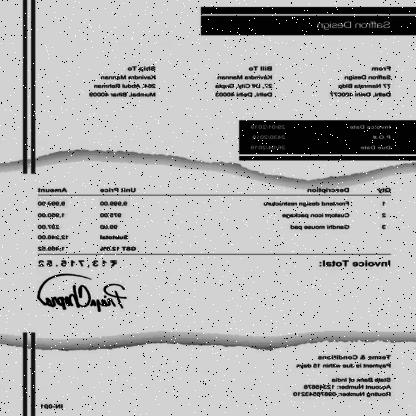Paragraph: (290, 352, 396, 398), (249, 124, 394, 150), (34, 258, 394, 268), (86, 64, 160, 98), (329, 65, 393, 97), (214, 65, 274, 98), (313, 18, 393, 32), (38, 402, 67, 410)
Table: (34, 185, 394, 254)
